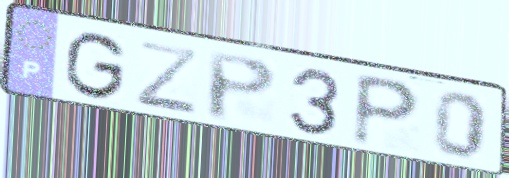0: (432, 89, 491, 164)
3: (286, 67, 342, 138)
G: (61, 30, 129, 104)
P: (348, 70, 424, 151), (205, 49, 280, 125)
Z: (133, 38, 201, 118)
